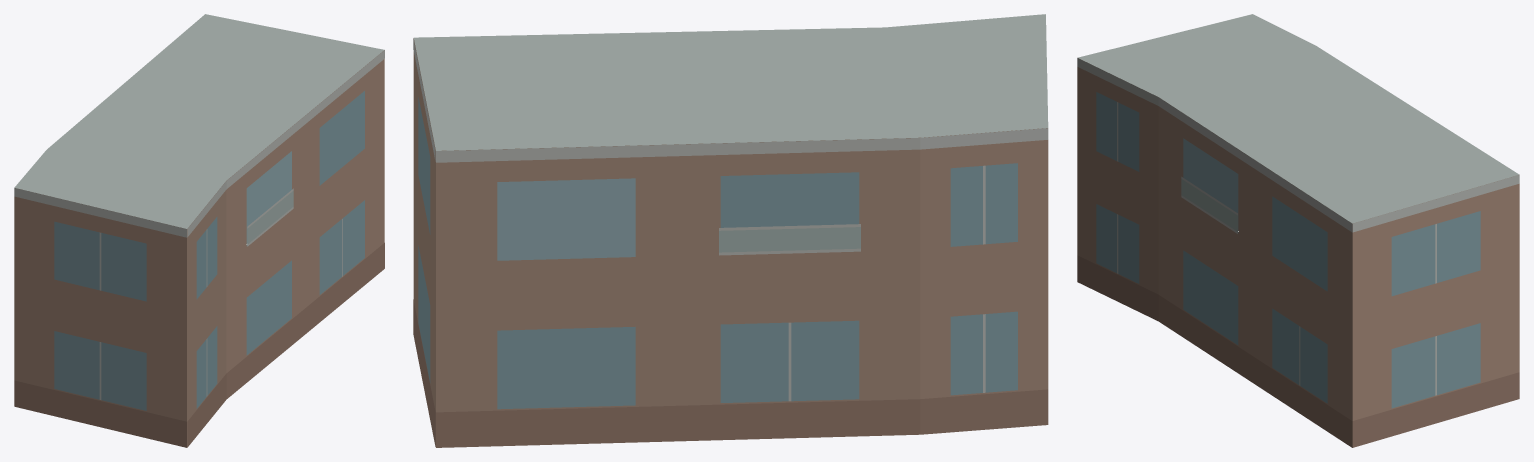
Rendered from survey-upis-32495803.glb.
The picture shows the model from 3 angles, left to right: view 1: azimuth 30°, elevation 25°; view 2: azimuth 150°, elevation 25°; view 3: azimuth 270°, elevation 25°; orthographic projection. The views are drawn at different scales.
Visible parts, largest first — view 1: survey-upis-32495803.tmp; view 2: survey-upis-32495803.tmp; view 3: survey-upis-32495803.tmp.
Boxes of the visible parts, x1,y1,x2,y2 form: survey-upis-32495803.tmp: (14, 14, 384, 447); survey-upis-32495803.tmp: (413, 14, 1048, 447); survey-upis-32495803.tmp: (1077, 14, 1519, 447).
Bounding box in the file's own units: 12.24 × 6.1 × 10.91.
